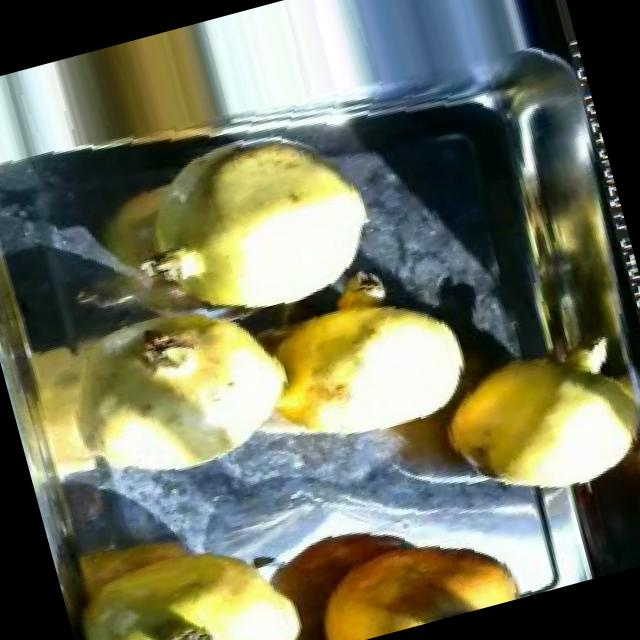fruit: (39, 282, 320, 508), (229, 240, 490, 474), (421, 317, 640, 520), (60, 508, 326, 640), (302, 507, 534, 640)
